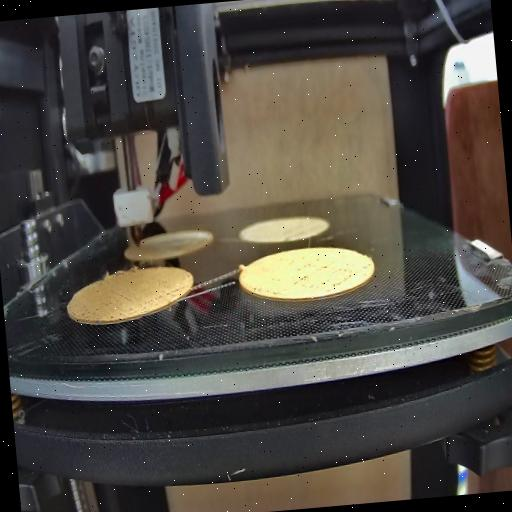under_extrusion: (290, 254, 360, 296), (81, 286, 134, 320), (144, 286, 184, 306), (251, 280, 282, 302)
